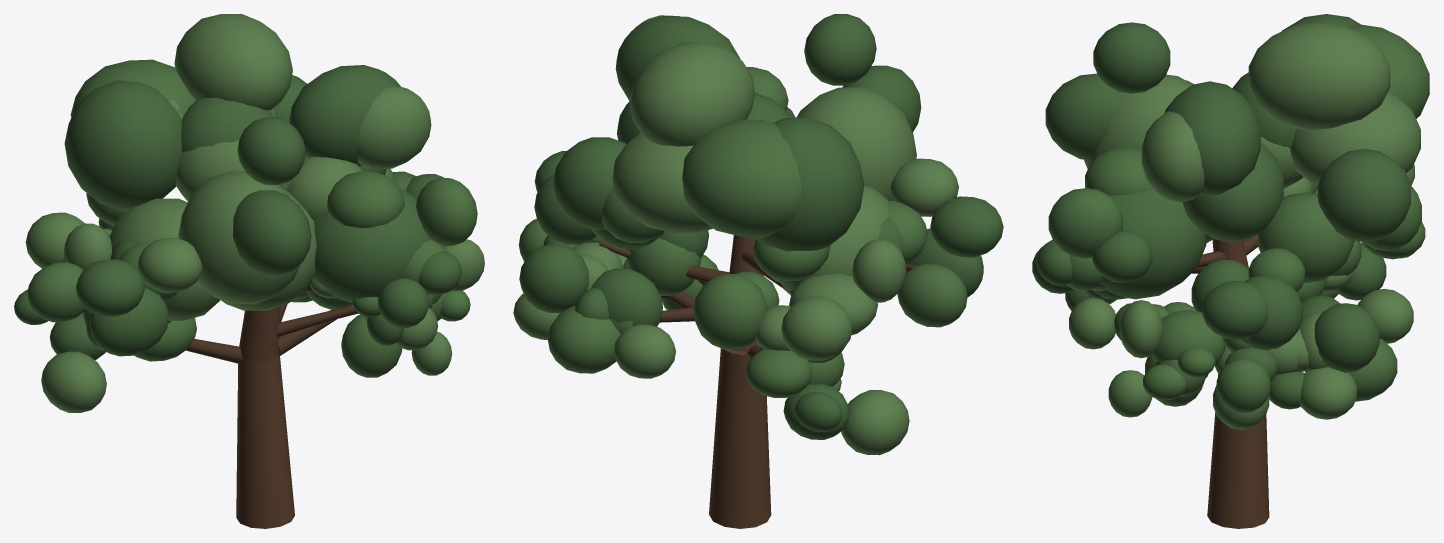
Rendered from tree_oak_high.glb.
3 renders of one model, left to right at view 1: azimuth 30°, elevation 25°; view 2: azimuth 150°, elevation 25°; view 3: azimuth 270°, elevation 25°, orthographic. The views are drawn at different scales.
Bounding box in the file's own units: 9.01 × 9.45 × 6.91.
